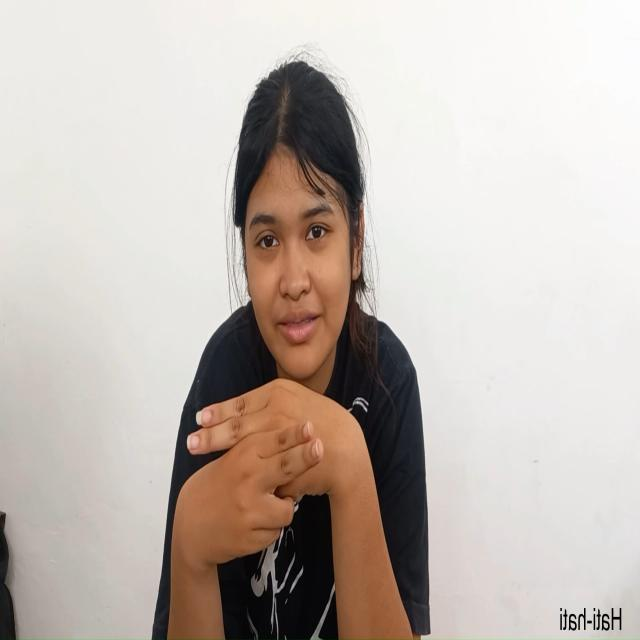Hati-hati -BISINDO-: (169, 377, 380, 582)
